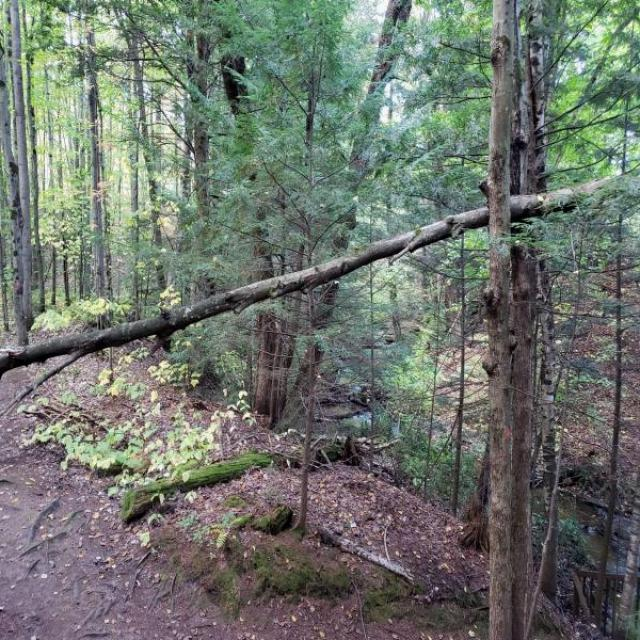fallen_object: (116, 397, 390, 549)
